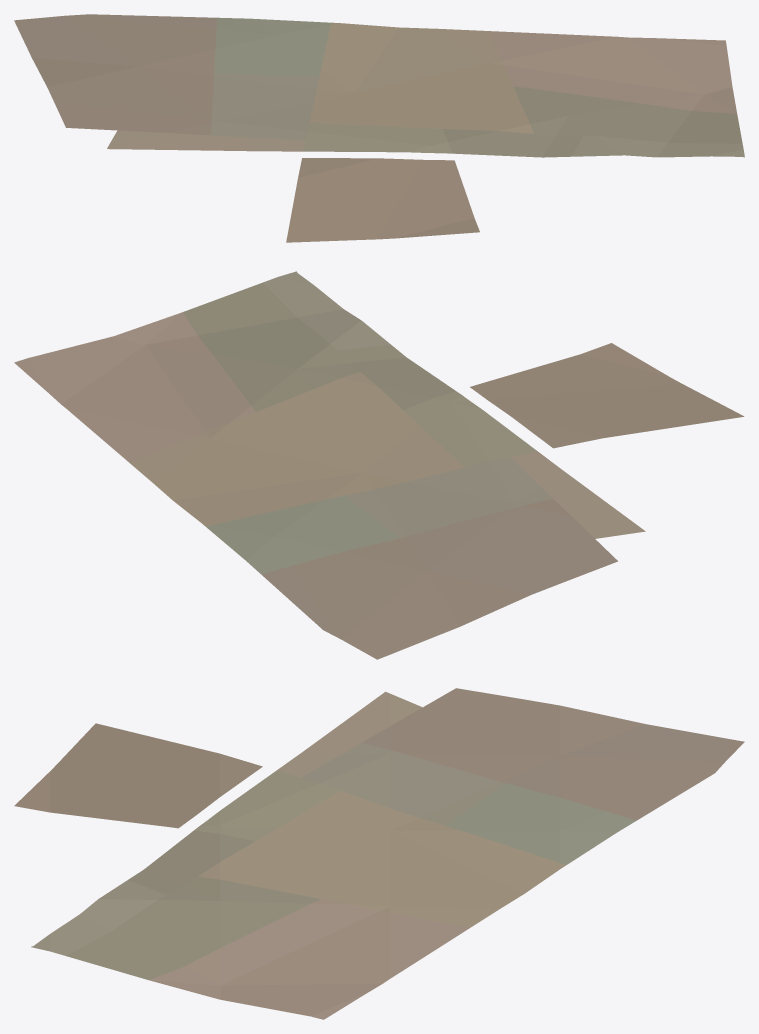
Rendered from farm_10_2_soil.glb.
3 views of the same model, one above another, from view 1: azimuth 30°, elevation 25°; view 2: azimuth 150°, elevation 25°; view 3: azimuth 270°, elevation 25° (orthographic). The views are drawn at different scales.
Parts seen in each view (by area): view 1: geometry_0; view 2: geometry_0; view 3: geometry_0.
Boxes of the visible parts, x1=… form: geometry_0: x1=14, y1=14, x2=744, y2=242; geometry_0: x1=14, y1=271, x2=744, y2=659; geometry_0: x1=14, y1=688, x2=744, y2=1019.
Size of the model in its own units: 352 by 9.49 by 344.
